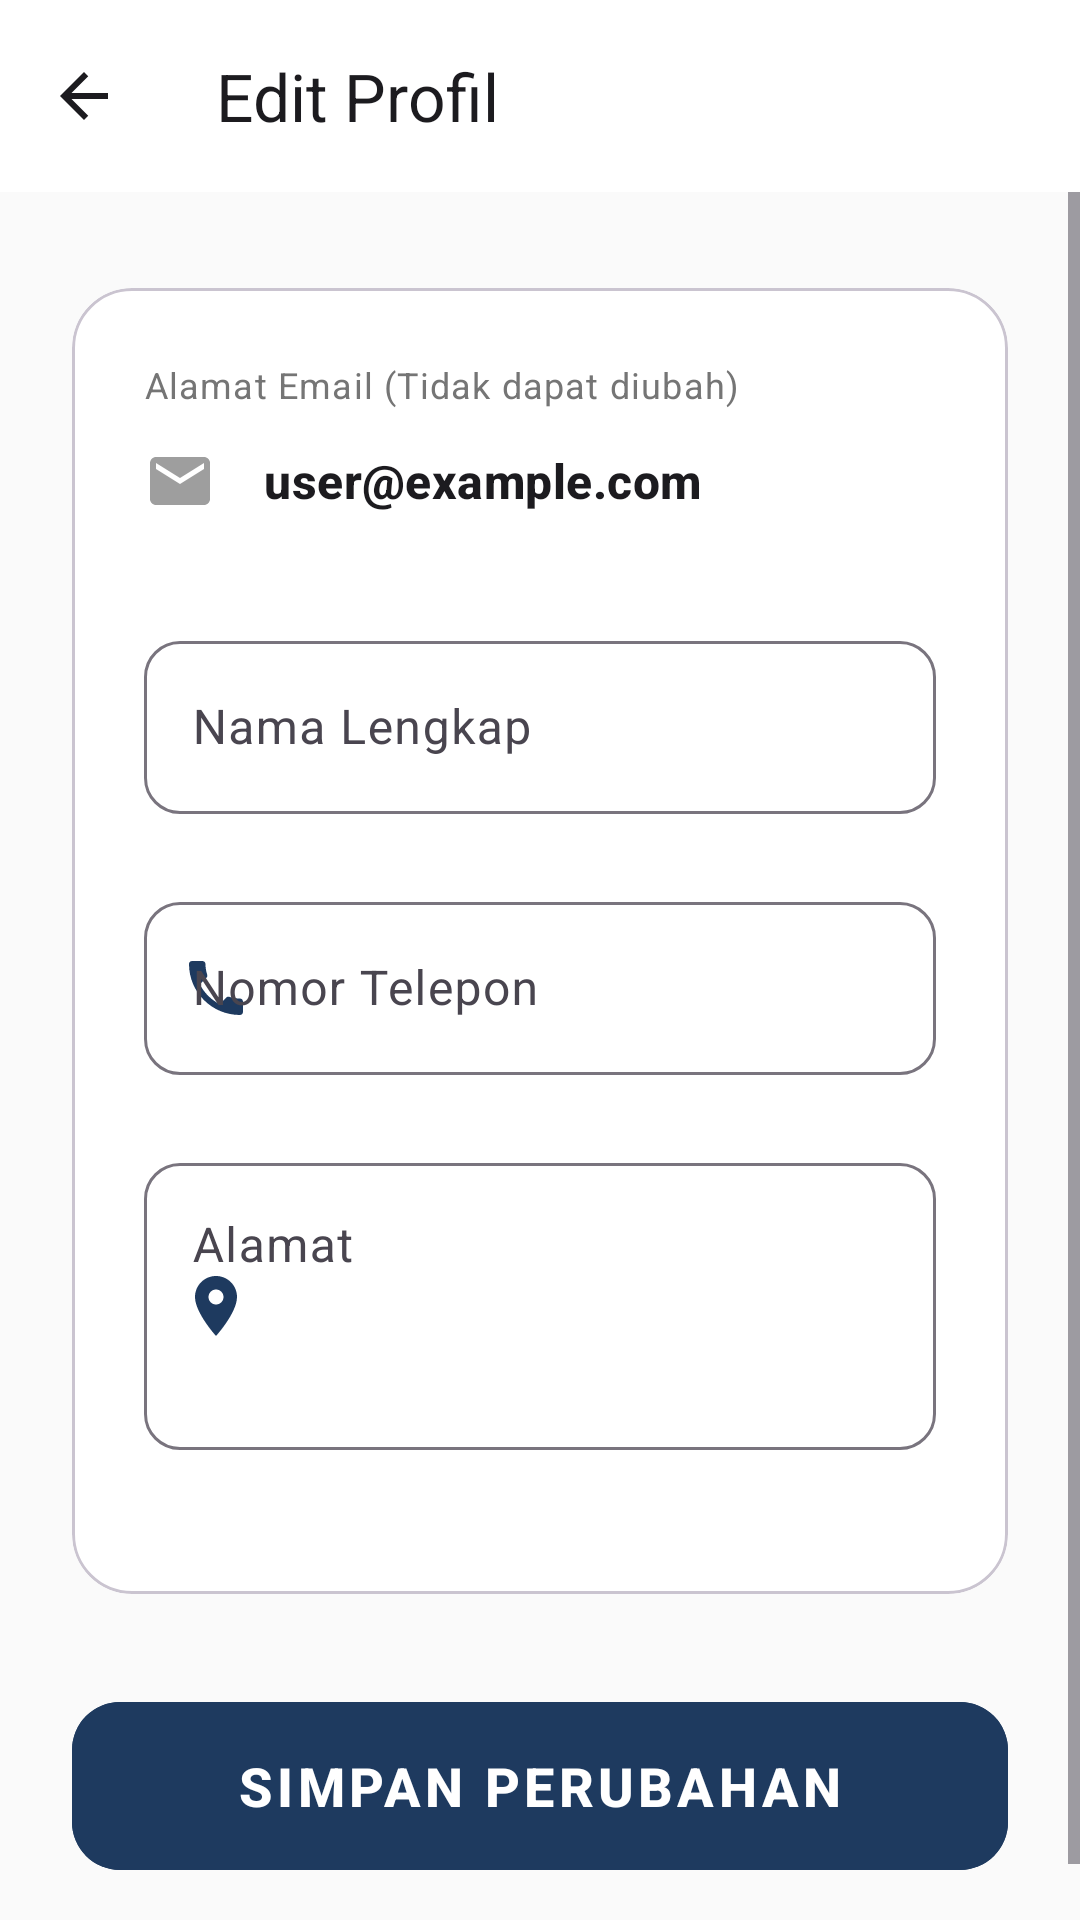

Locate icon controls on the screen. Image size 1080px×1920px, boxes as bbox=[x1, y1, x2, y2].
Ikon Email: bbox=[150, 457, 210, 505]
